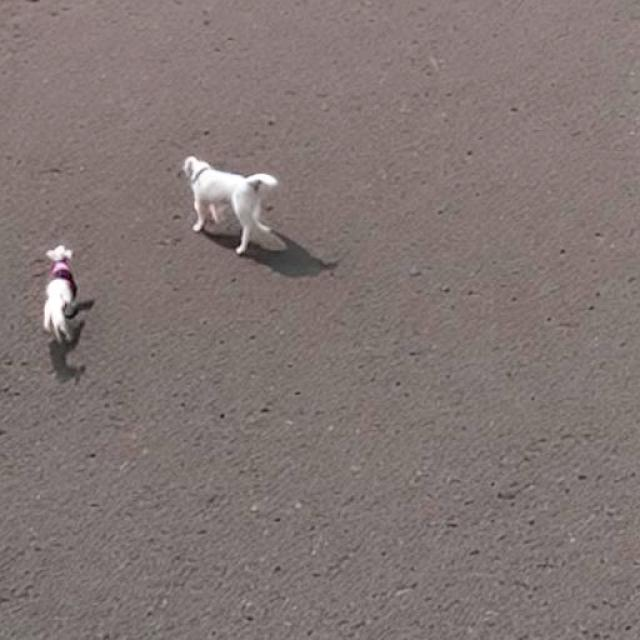Dog: (180, 154, 280, 257), (41, 241, 81, 345)
